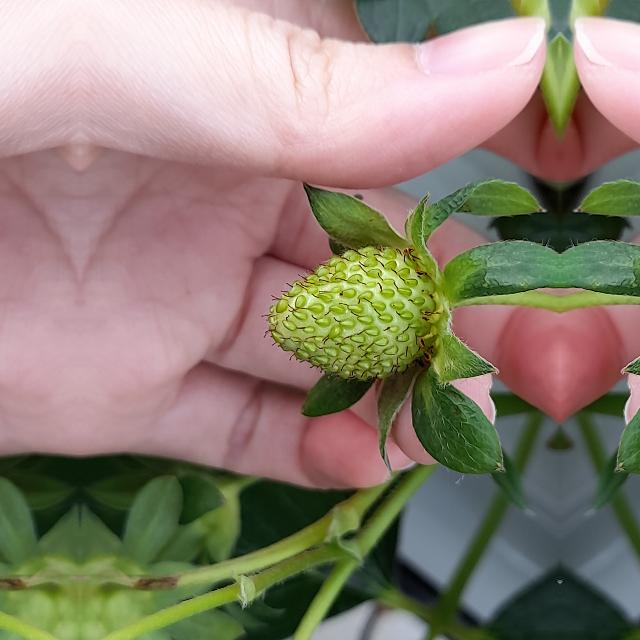Health_25: (260, 242, 438, 382)
